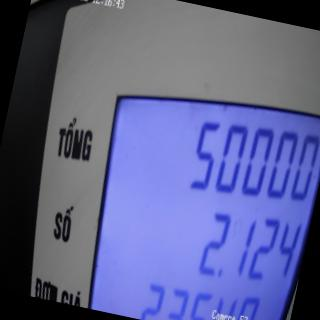screen: (66, 58, 320, 320)
